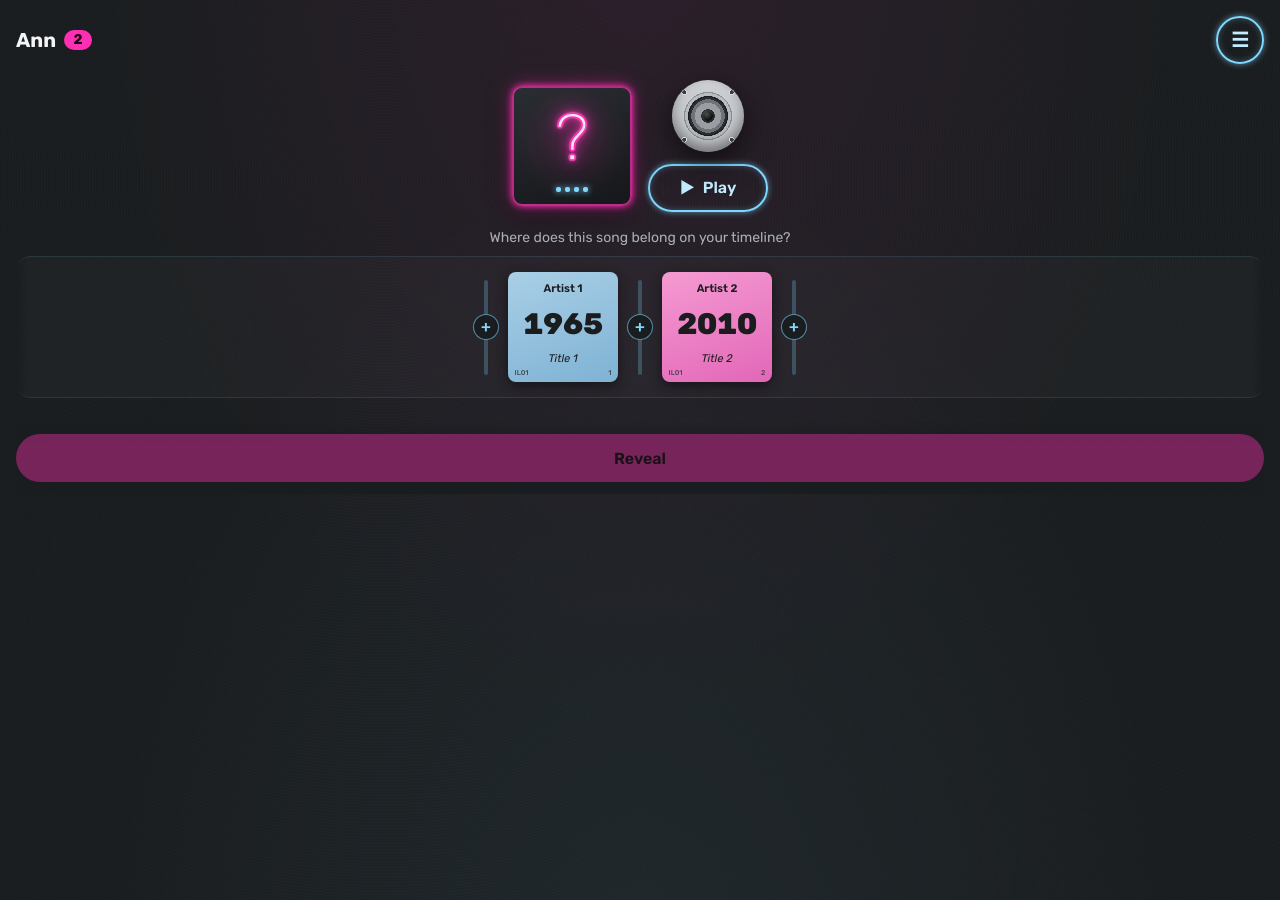
Scenario: GameScreen (turn) › allows Reveal without playing the clip (product decision, QA #9)
Click the 1st button with test id "timeline-slot" at (486, 327), box 464,268 -> 508,386
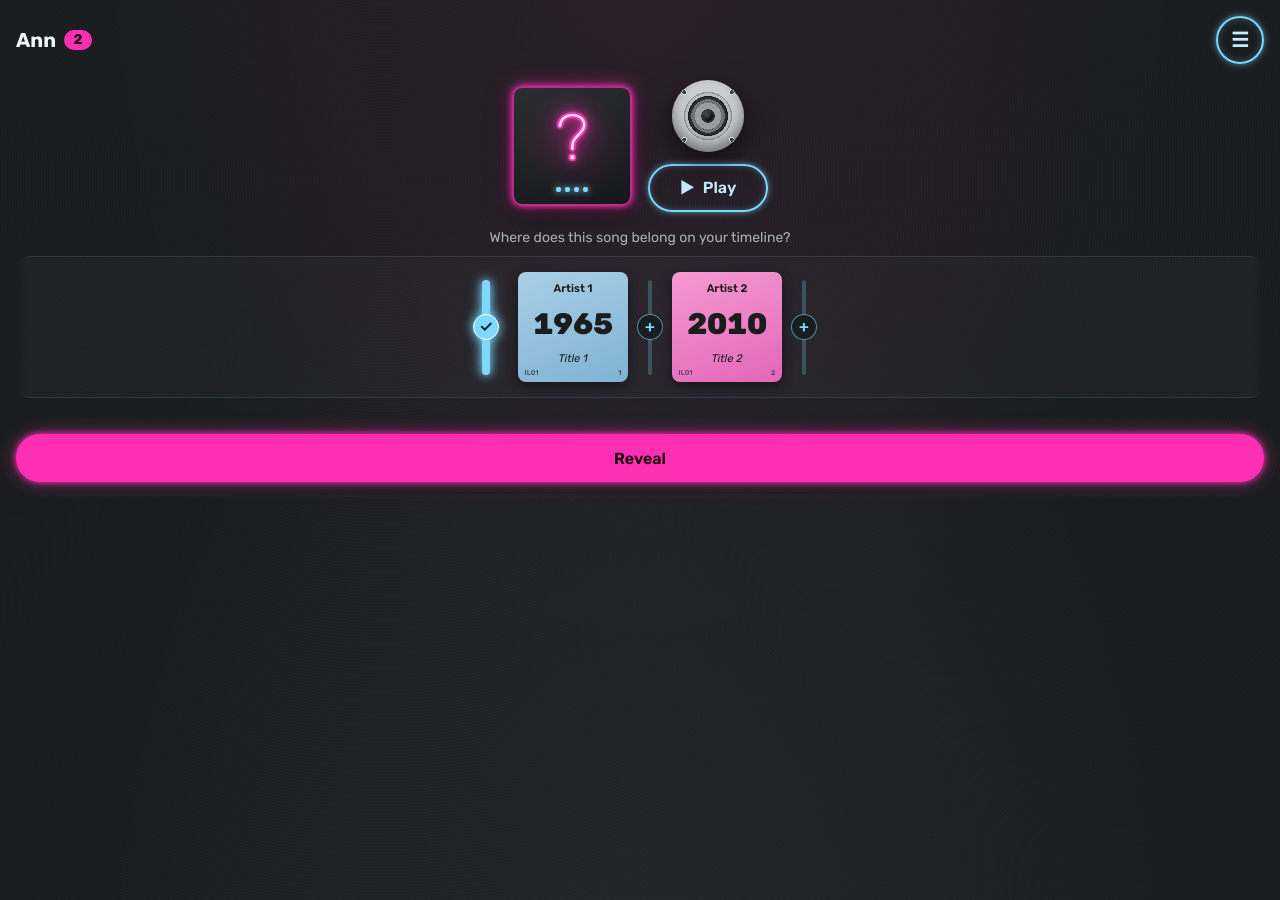
Check: the button with test id "btn-reveal" is enabled, box 16,434 -> 1264,482
